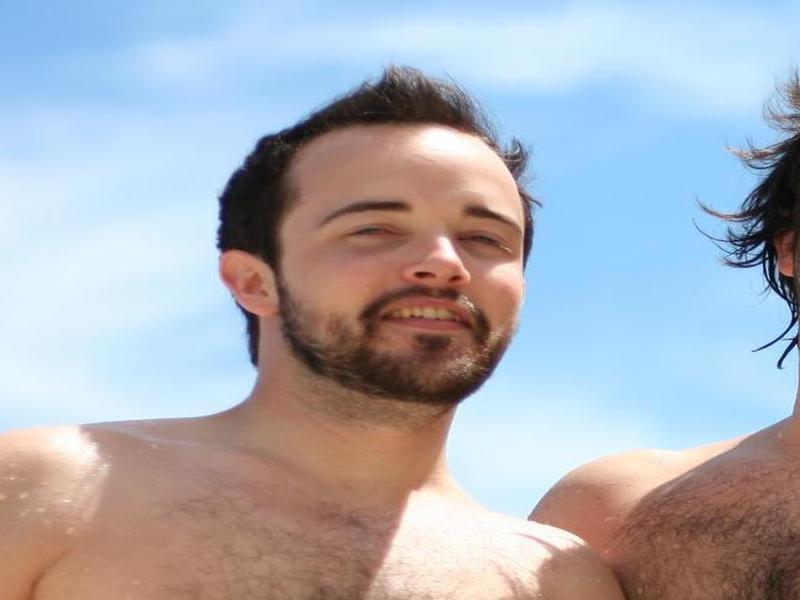person: (1, 68, 624, 600), (529, 65, 799, 600)
